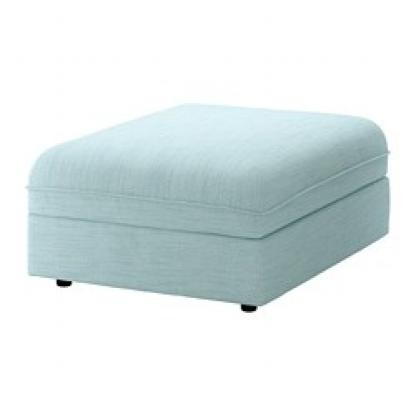Sofa: (18, 82, 391, 320)
